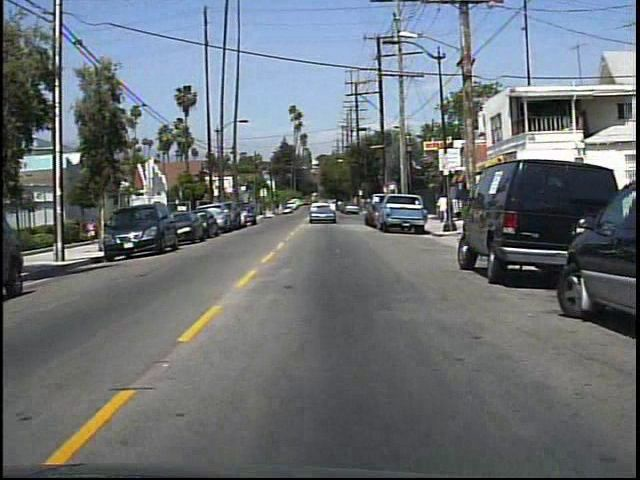person: (436, 194, 455, 227), (86, 218, 102, 245)
